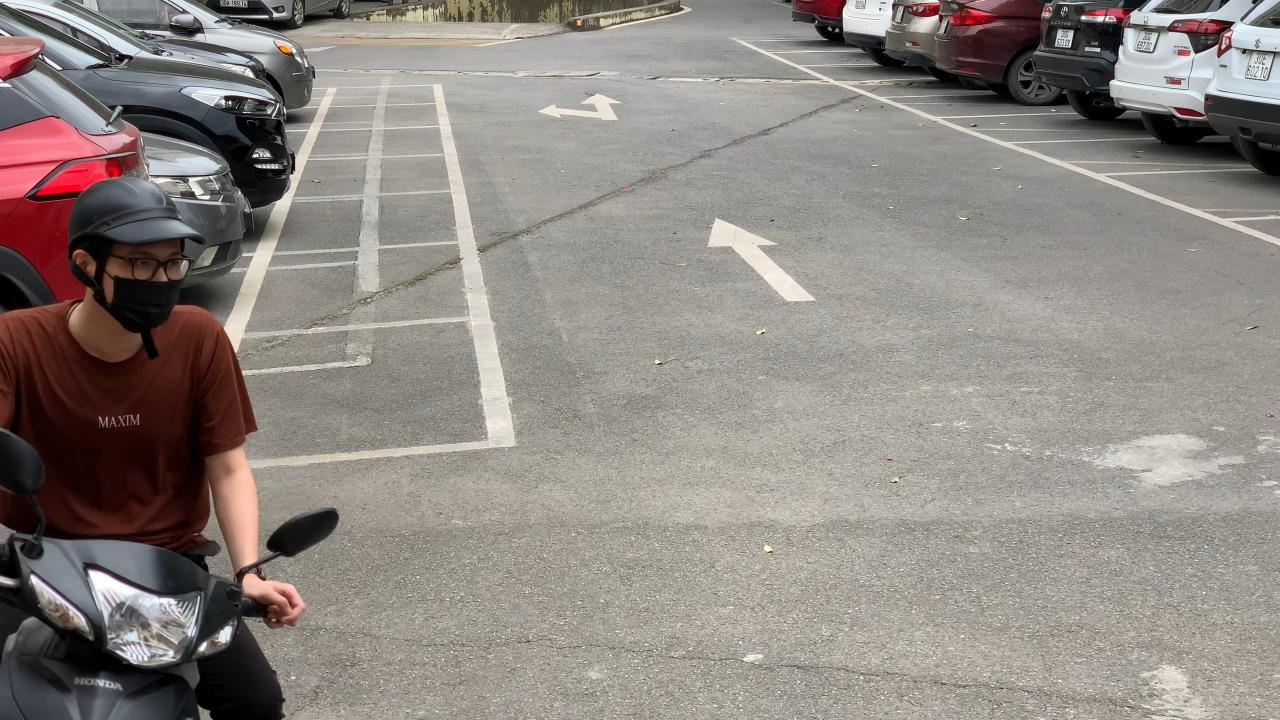helmet: (65, 176, 206, 256)
motorcyclist: (0, 175, 343, 720)
